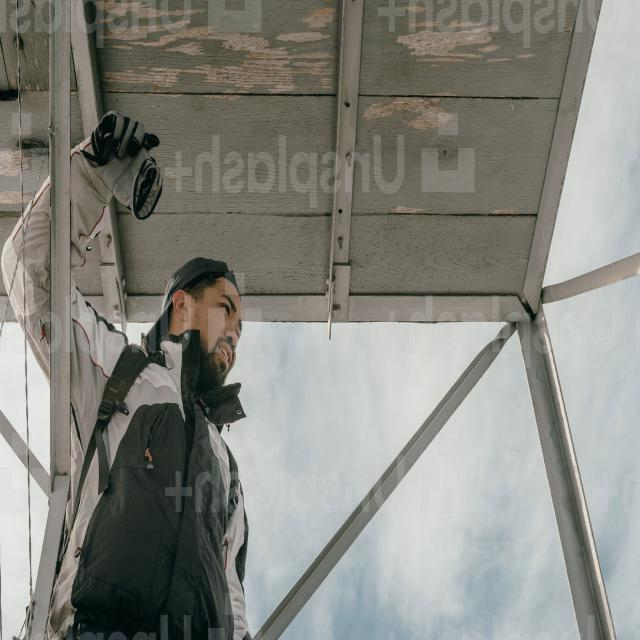adult: (0, 110, 250, 640)
